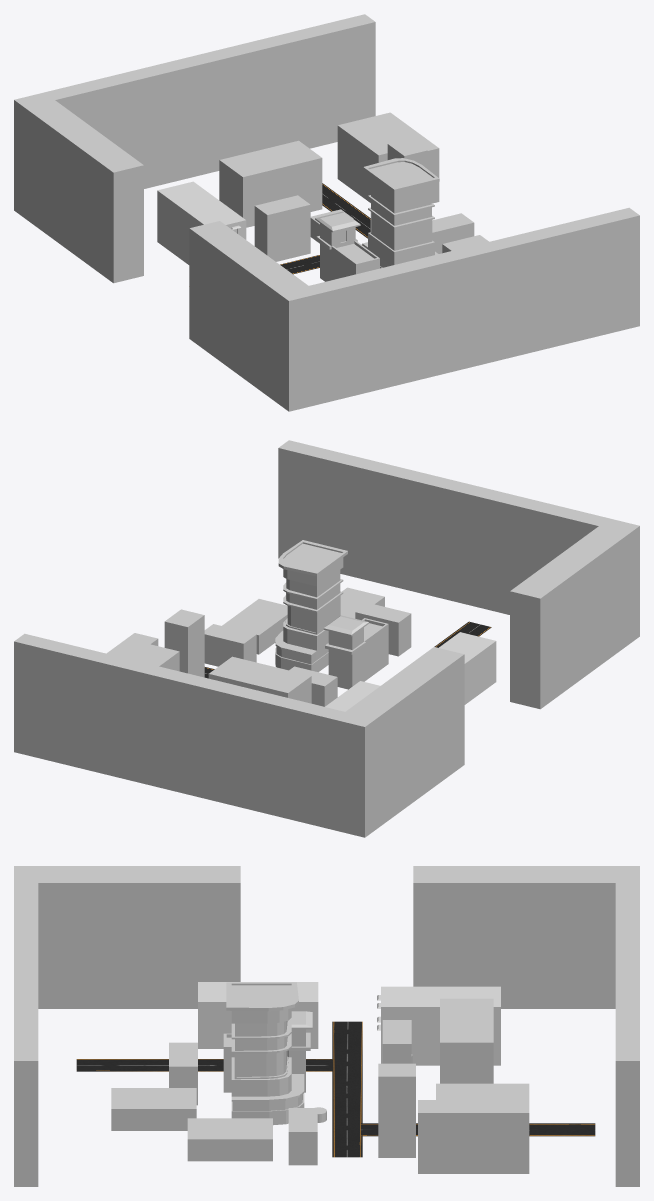
File: town.fbx
The picture shows the model from 3 angles, top to bottom: view 1: azimuth 30°, elevation 25°; view 2: azimuth 150°, elevation 25°; view 3: azimuth 270°, elevation 25°; orthographic projection. The views are drawn at different scales.
Parts seen in each view (by area): view 1: Cube.013, Cube.015, Cube.014, Cube.004, Cube.012, Cube.001, Cube.002, Cube.010, Cube.009, Plane.002, Cube.011; view 2: Cube.015, Cube.013, Cube.014, Cube.010, Cube.004, Cube, Cube.011, Cube.008, Cube.009, Cube.012, Cube.005, Cube.002 (+2 smaller); view 3: Cube.013, Cube.015, Cube.012, Cube.014, Cube.001, Cube.004, Plane, Cube.008, Cube.011, Cube.006, Cube, Plane.001 (+5 smaller).
Part boxes in pixels (box(x1,y1,x2,y2)): Cube.013: box(189, 207, 639, 411); Cube.015: box(14, 14, 375, 283); Cube.014: box(362, 158, 439, 268); Cube.004: box(219, 140, 322, 227); Cube.012: box(337, 112, 439, 203); Cube.001: box(157, 181, 246, 264); Cube.002: box(254, 195, 310, 261); Cube.010: box(315, 211, 379, 281); Cube.009: box(432, 213, 474, 253); Plane.002: box(322, 183, 370, 238); Cube.011: box(387, 138, 427, 168); Cube.015: box(14, 633, 464, 837); Cube.013: box(278, 440, 639, 709); Cube.014: box(275, 540, 347, 672); Cube.010: box(323, 615, 388, 689); Cube.004: box(208, 656, 311, 703); Cube: box(439, 632, 496, 704); Cube.011: box(164, 609, 204, 677); Cube.008: box(222, 599, 287, 654); Cube.009: box(204, 624, 256, 666); Cube.012: box(106, 633, 179, 671); Cube.005: box(355, 603, 411, 656); Cube.002: box(289, 666, 337, 706); Cube.013: box(14, 866, 240, 1186); Cube.015: box(413, 866, 639, 1186); Cube.012: box(418, 1083, 529, 1173); Cube.014: box(226, 982, 304, 1125); Cube.001: box(377, 986, 500, 1065); Cube.004: box(440, 998, 493, 1083); Plane: box(332, 1021, 362, 1157); Cube.008: box(187, 1118, 272, 1161); Cube.011: box(378, 1063, 415, 1157); Cube.006: box(111, 1088, 196, 1130); Cube: box(198, 982, 318, 1048); Plane.001: box(76, 1059, 332, 1071).
Bounding box in the file's own units: 3810 × 1219 × 5169.
